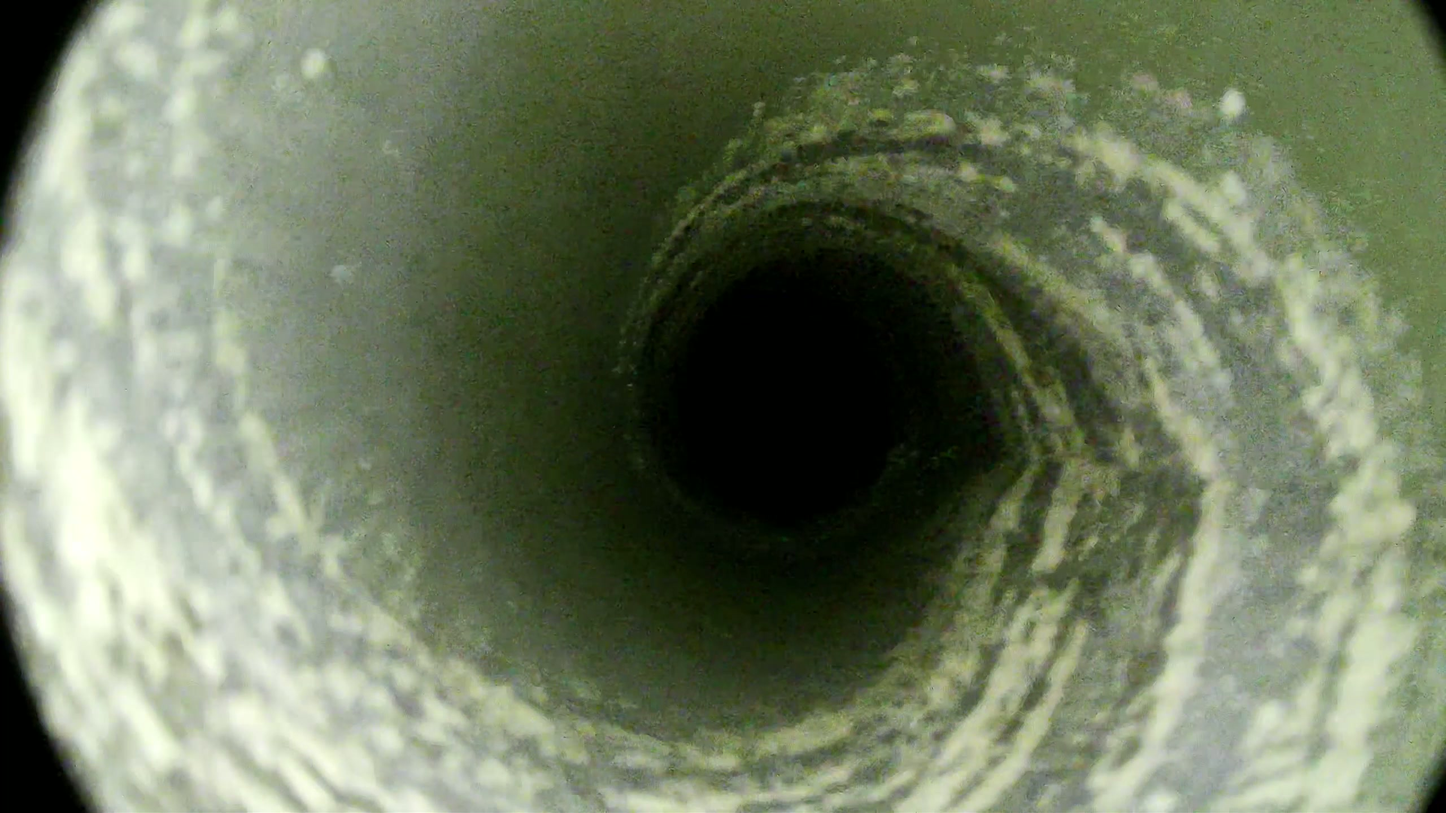hole: (680, 295, 893, 522)
